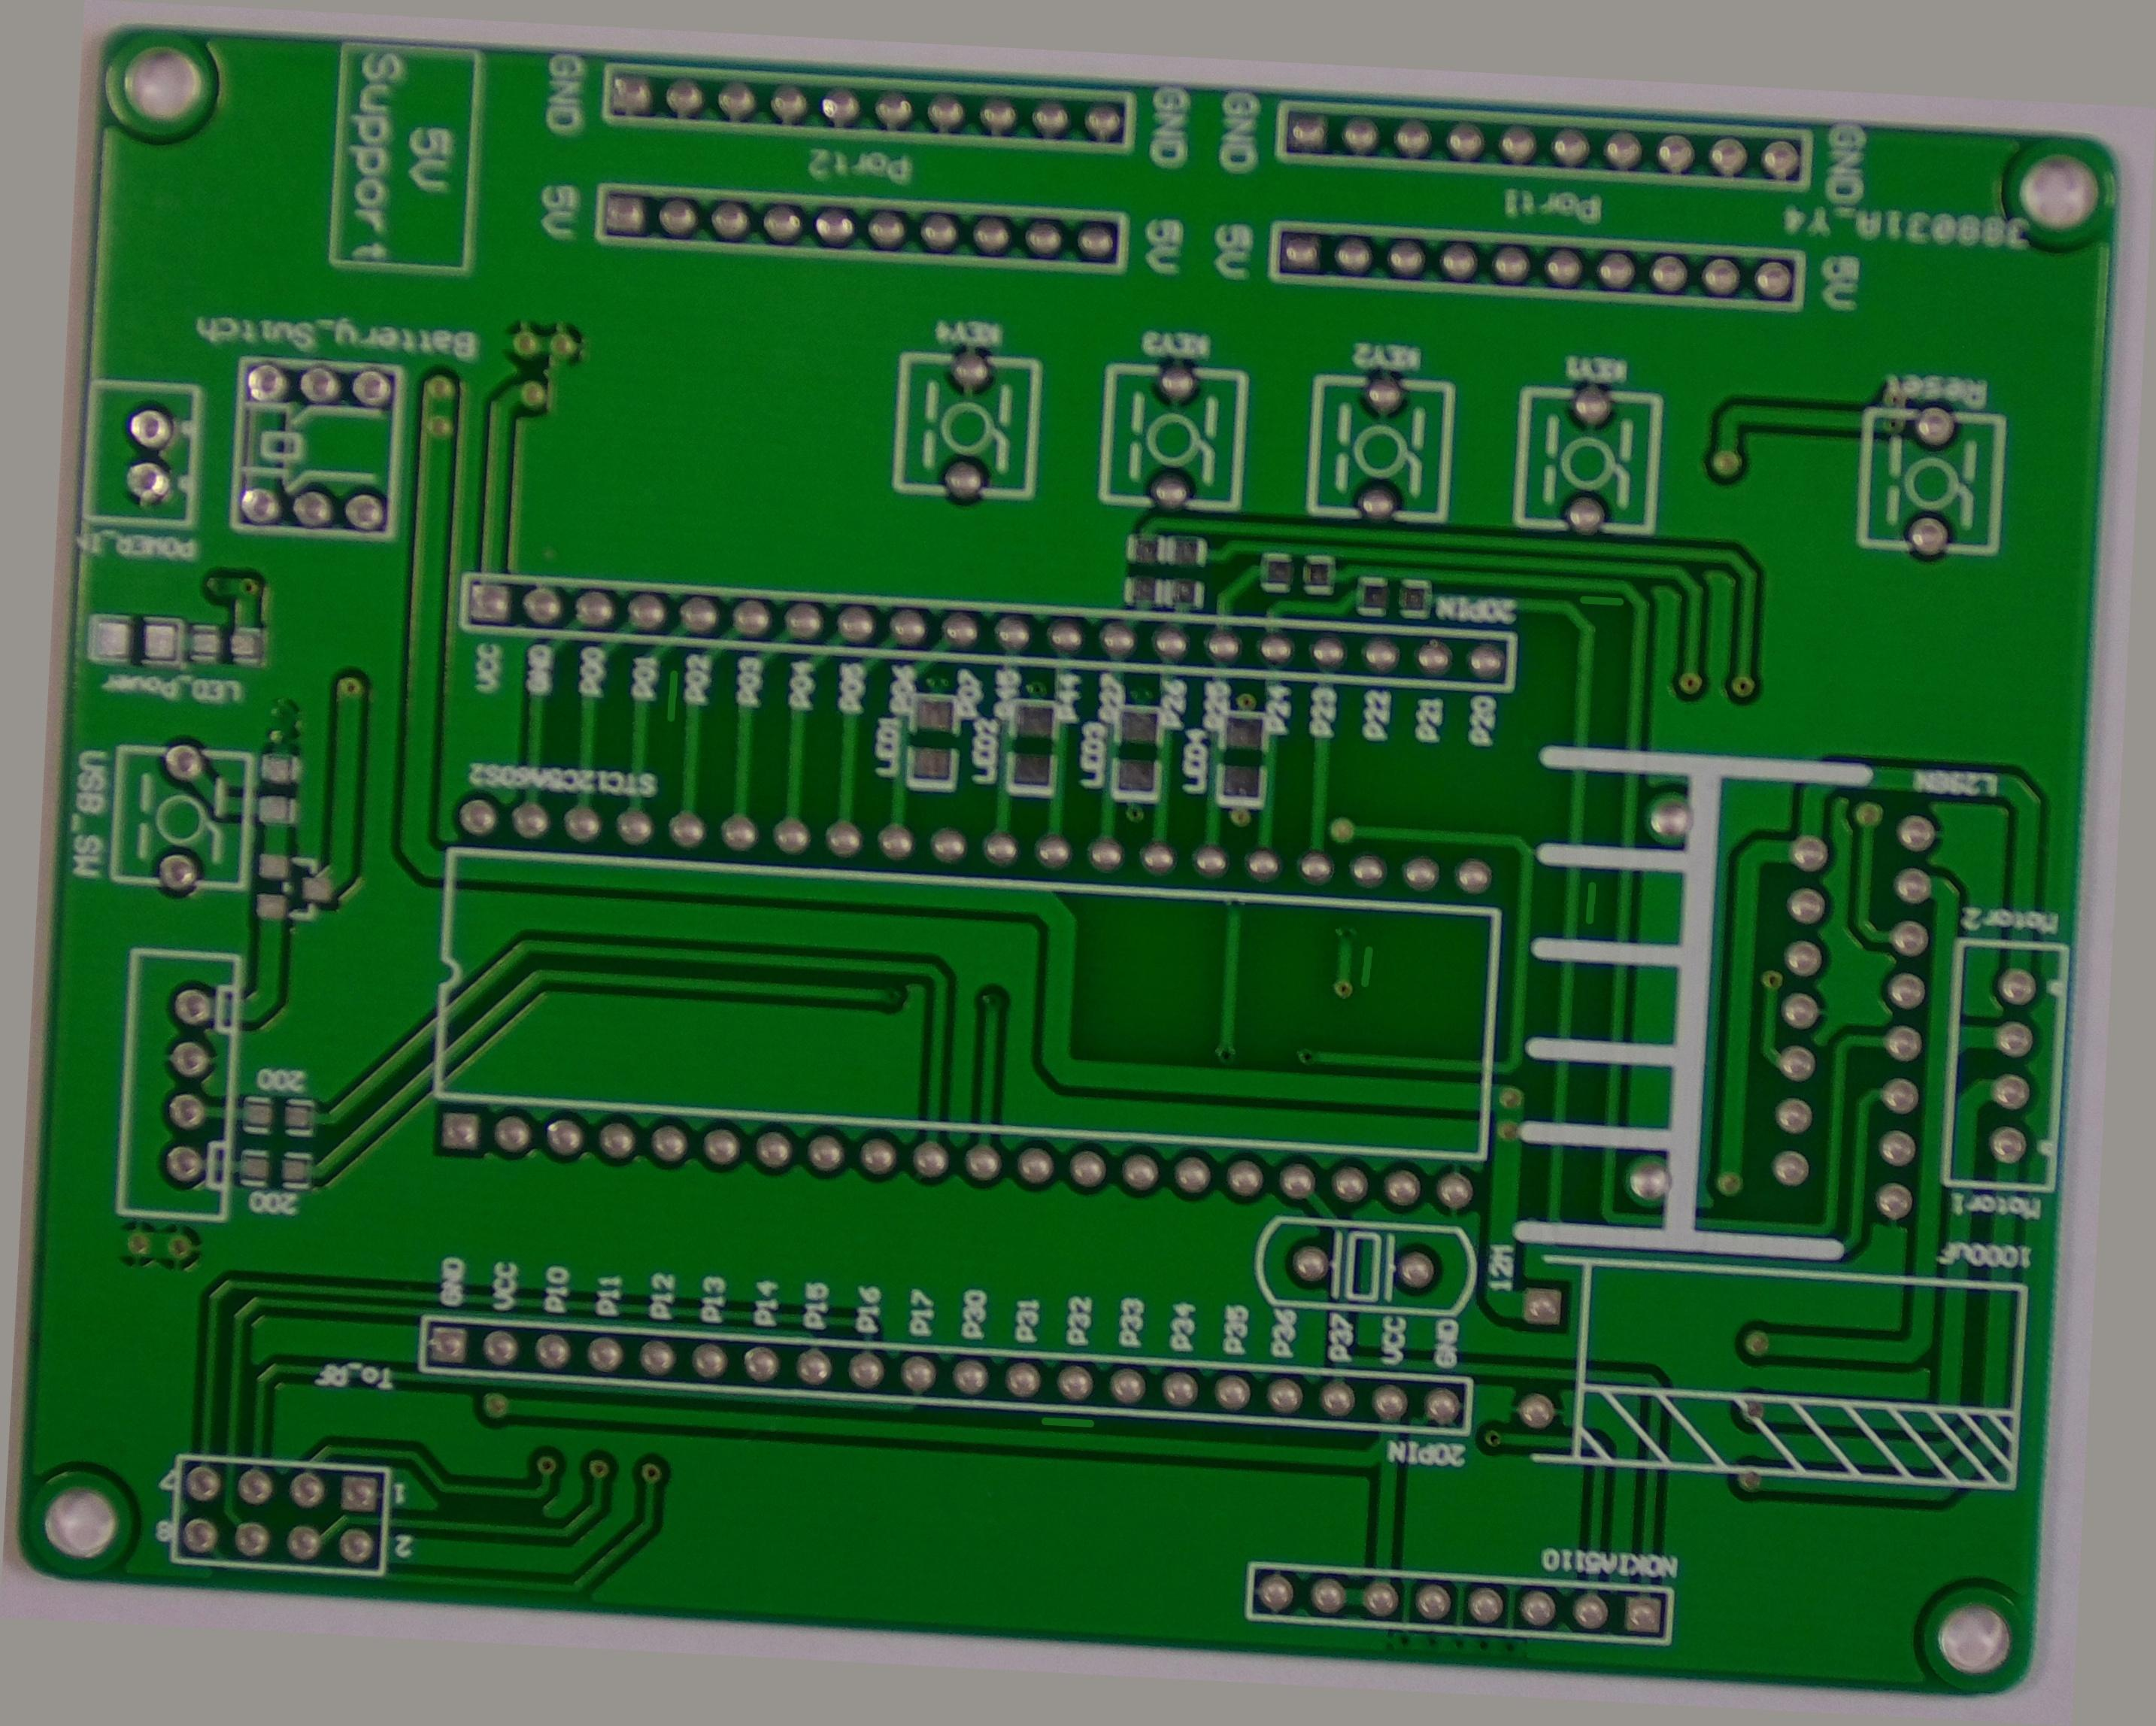spurious_copper: (1589, 837, 1640, 907), (1573, 534, 1642, 579), (622, 671, 668, 740), (1060, 1441, 1143, 1478), (1362, 923, 1400, 990)
